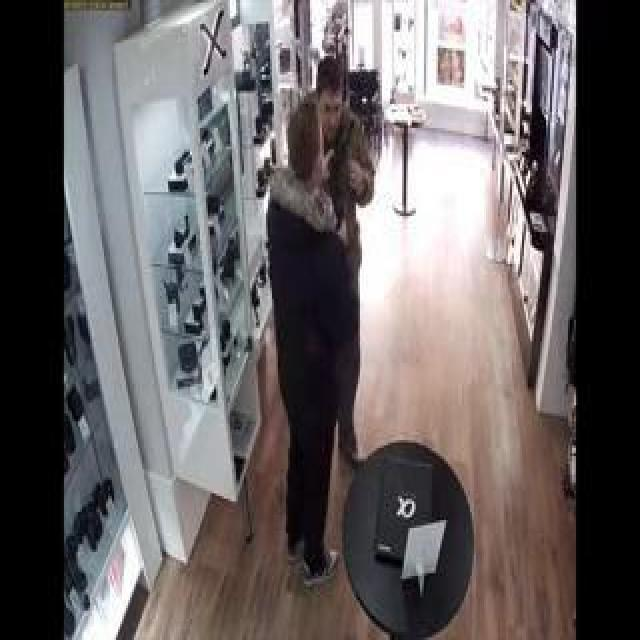Shoplifting: (250, 42, 418, 436)
